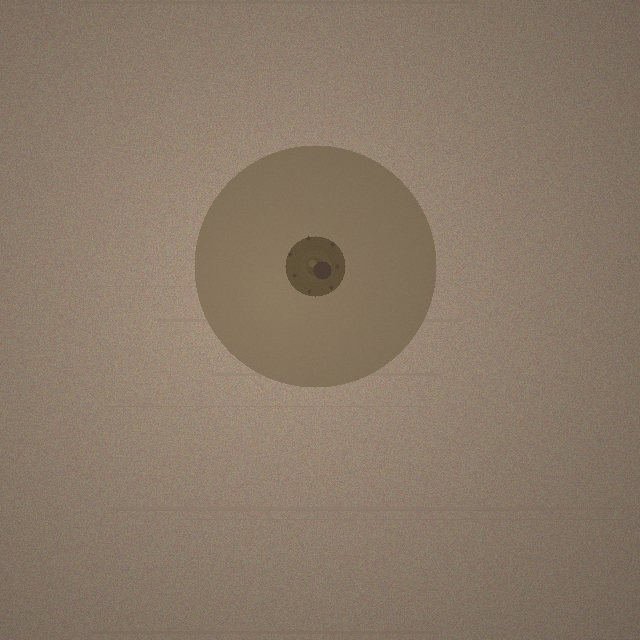cold_weld: (194, 145, 436, 387)
